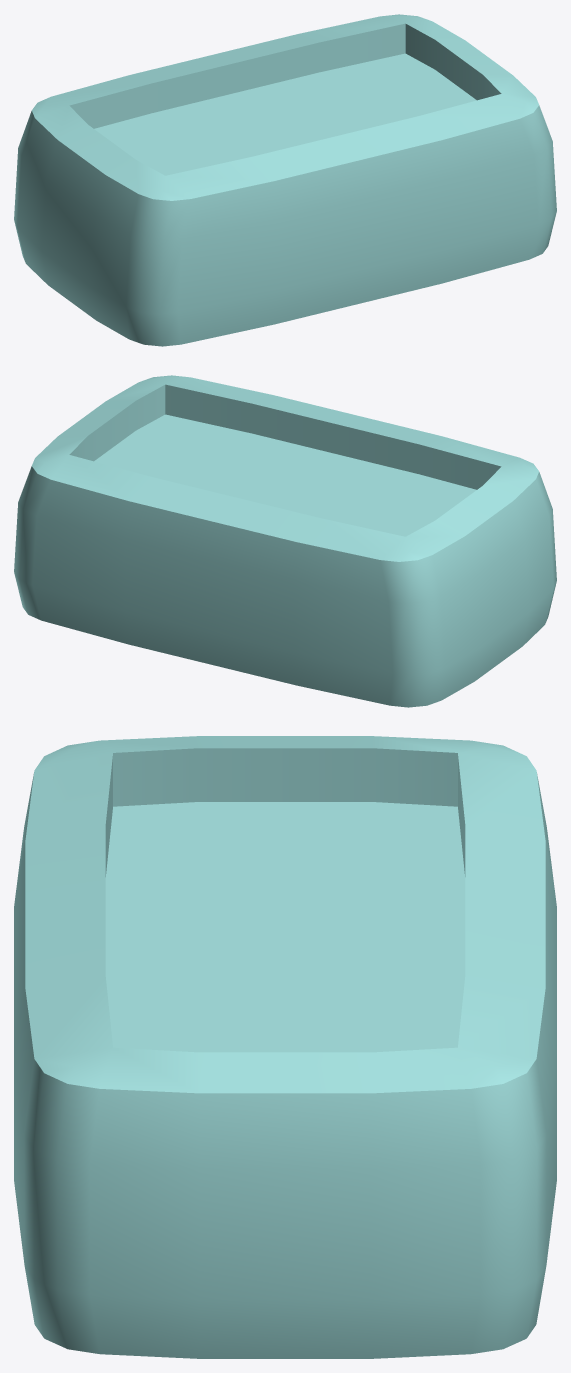
Rendered from Soap_forPAint.fbx.
3 renders of one model, top to bottom at view 1: azimuth 30°, elevation 25°; view 2: azimuth 150°, elevation 25°; view 3: azimuth 270°, elevation 25°, orthographic. The views are drawn at different scales.
Visible parts, largest first — view 1: pCube5; view 2: pCube5; view 3: pCube5.
Part boxes in pixels (box(x1,y1,x2,y2)): pCube5: box(14, 14, 556, 346); pCube5: box(14, 375, 556, 707); pCube5: box(14, 736, 556, 1358).
Size of the model in its own units: 0.2712 by 0.0893 by 0.1617.
